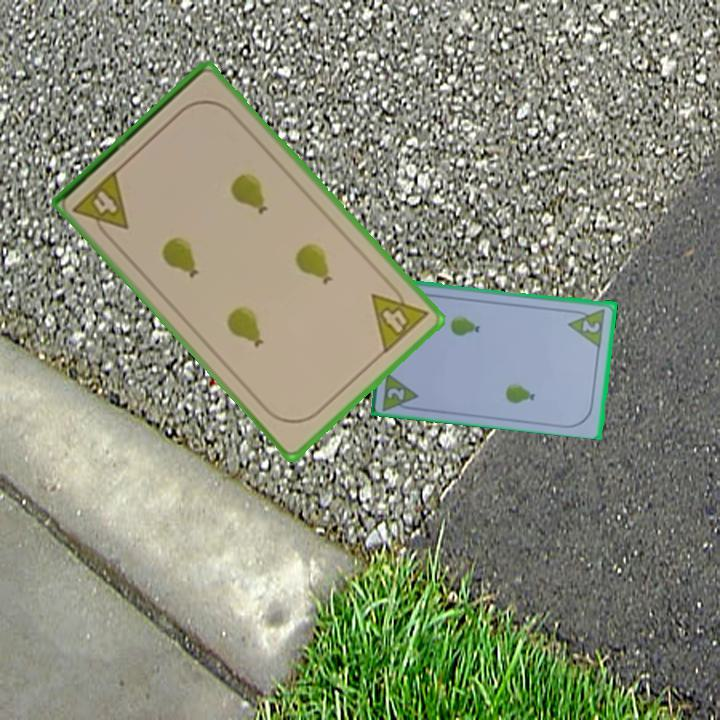2p: (579, 316, 603, 335), (384, 384, 408, 403)
4p: (367, 276, 432, 357), (69, 166, 132, 244)
